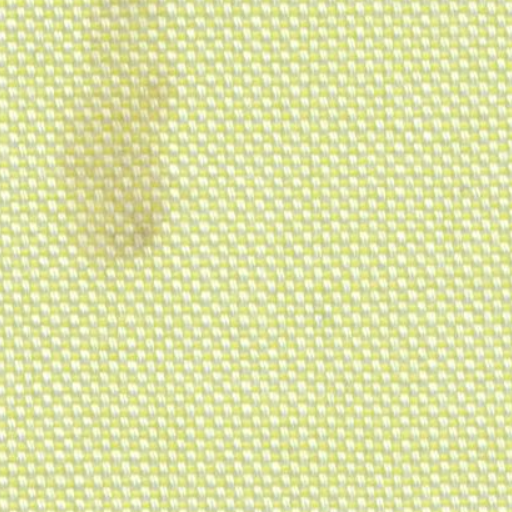WuZi: (52, 6, 197, 279)
